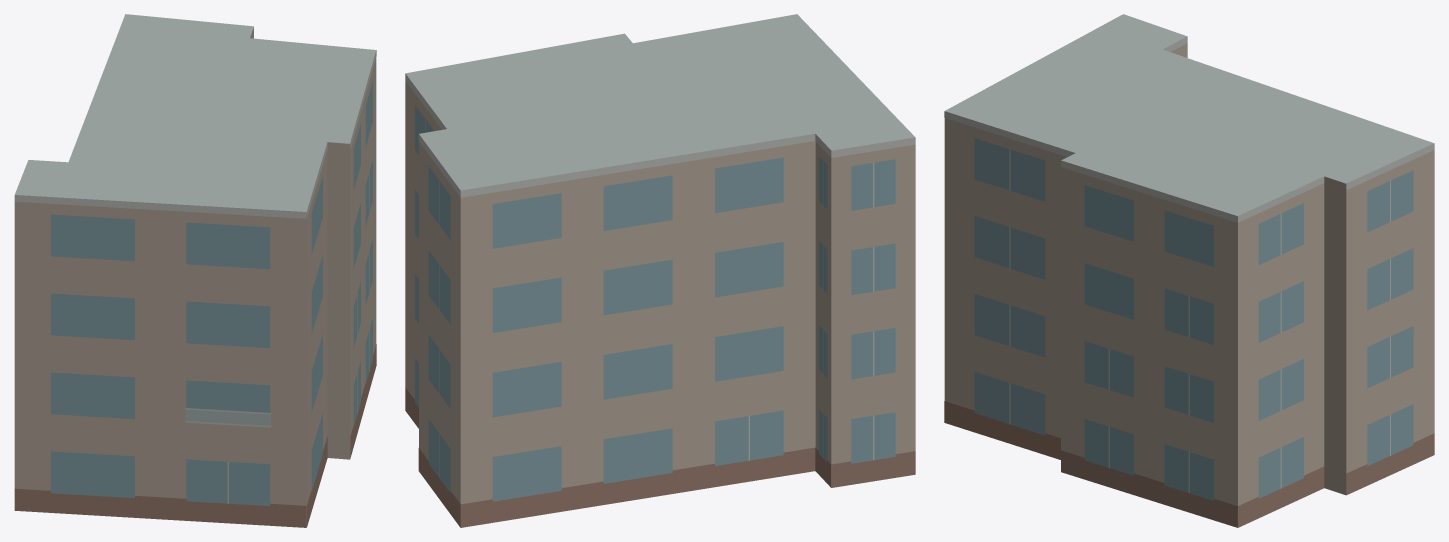
The model's file is survey-upis-32812894.glb.
The picture shows the model from 3 angles, left to right: view 1: azimuth 30°, elevation 25°; view 2: azimuth 150°, elevation 25°; view 3: azimuth 270°, elevation 25°; orthographic projection. The views are drawn at different scales.
Parts seen in each view (by area): view 1: survey-upis-32812894.tmp; view 2: survey-upis-32812894.tmp; view 3: survey-upis-32812894.tmp.
Part boxes in pixels (<box>): survey-upis-32812894.tmp: <box>14,14,376,527</box>; survey-upis-32812894.tmp: <box>405,14,915,527</box>; survey-upis-32812894.tmp: <box>944,14,1434,527</box>.
Size of the model in its own units: 15.79 by 11.35 by 16.18.
